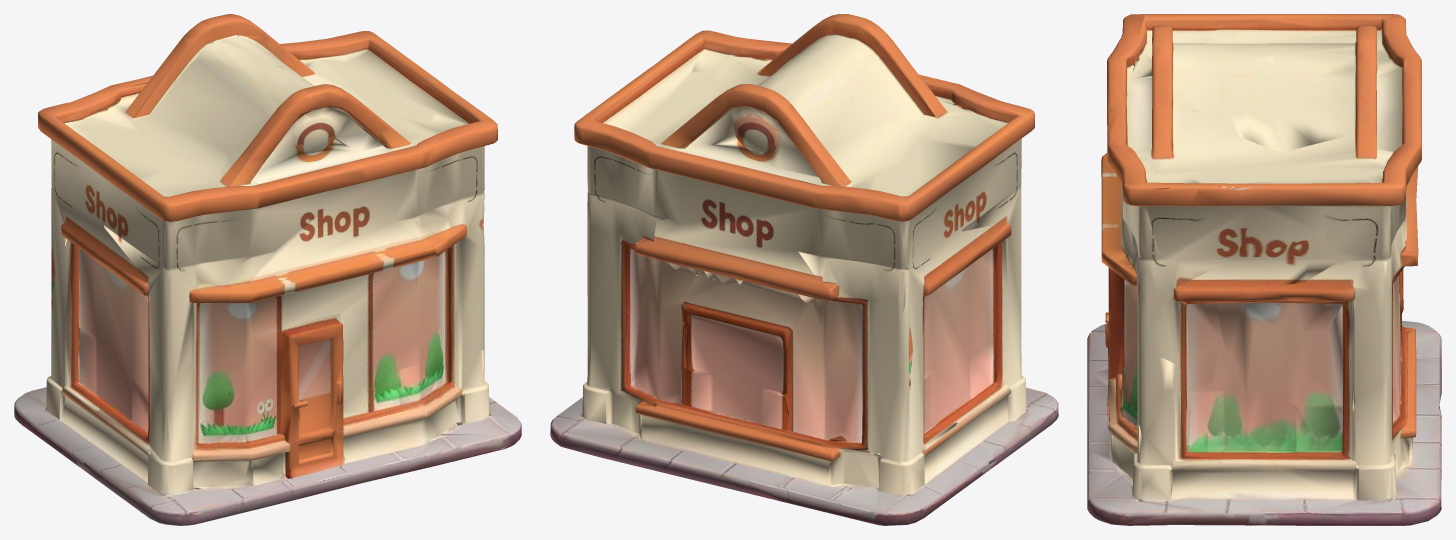
The model's file is shop.glb.
The picture shows the model from 3 angles, left to right: view 1: azimuth 30°, elevation 25°; view 2: azimuth 150°, elevation 25°; view 3: azimuth 270°, elevation 25°; orthographic projection. The views are drawn at different scales.
Bounding box in the file's own units: 1.9 × 1.83 × 1.48.
1 material, 1 textured.
